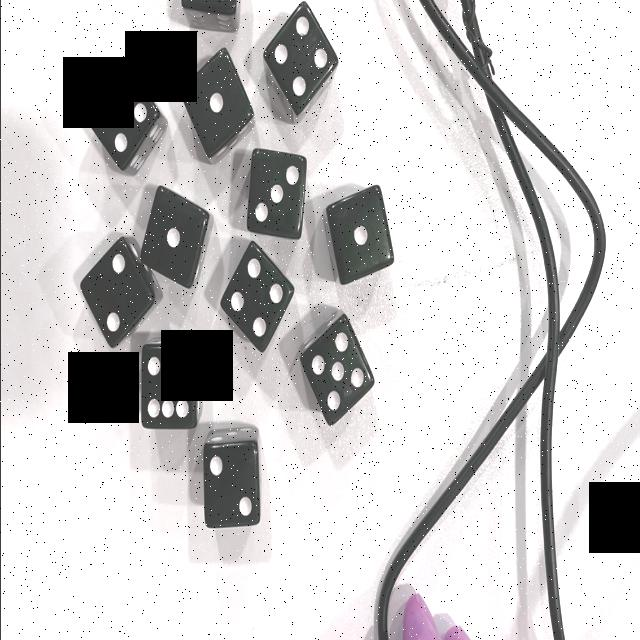DICE1: (326, 156, 392, 273), (147, 194, 203, 284), (187, 61, 243, 131)
DICE2: (84, 233, 144, 343), (202, 434, 256, 524)
DICE3: (243, 116, 309, 256), (176, 0, 236, 30)
DICE4: (261, 0, 339, 106), (89, 56, 152, 176), (228, 240, 284, 364)
DICE5: (305, 300, 369, 440)
DICE6: (138, 344, 198, 420)
